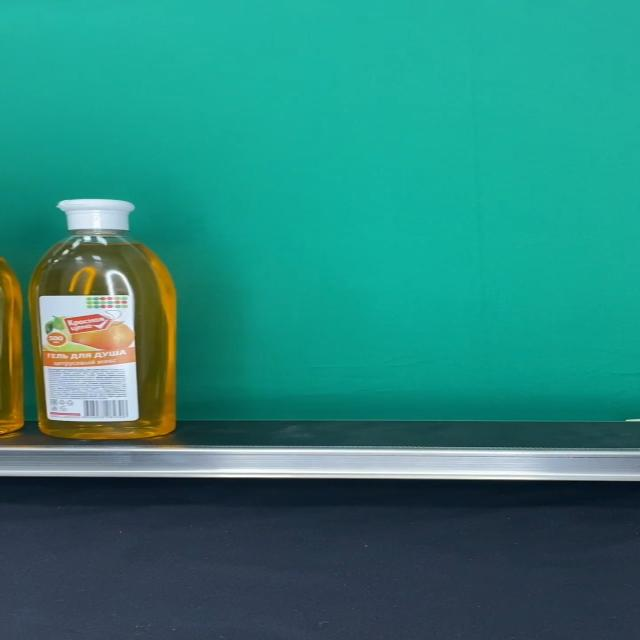Bottle: (30, 199, 177, 439)
Cap: (57, 199, 134, 231)
